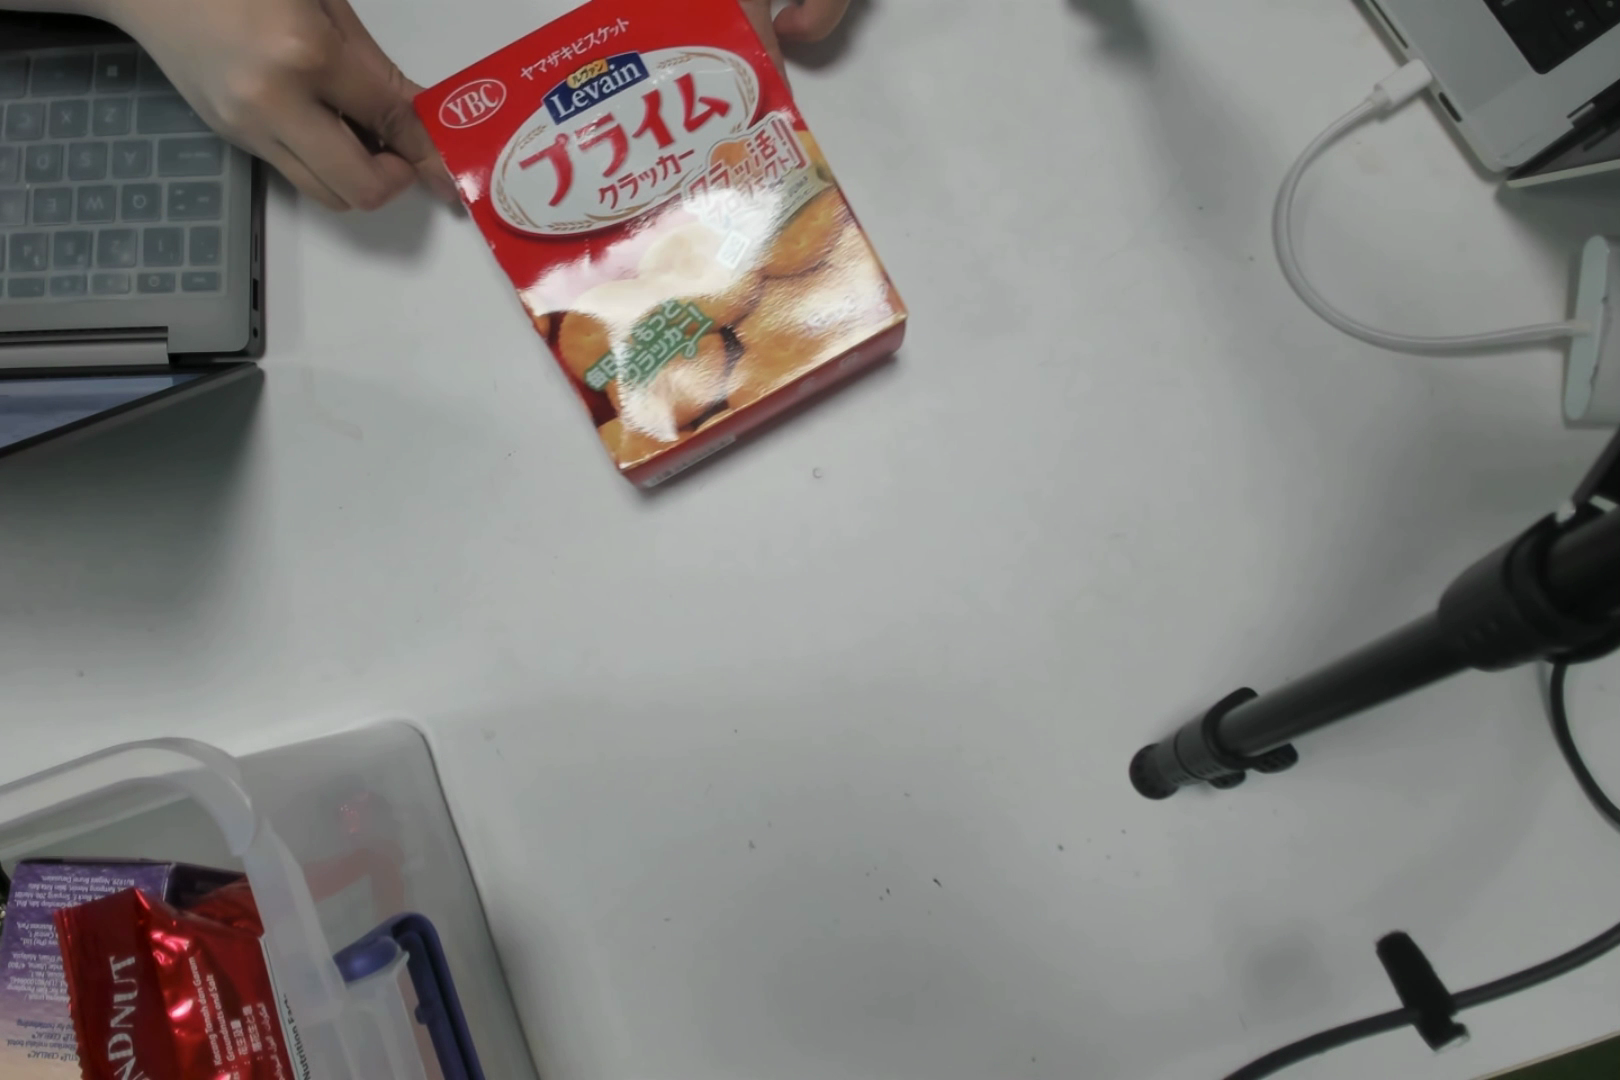c: (440, 5, 832, 417)
